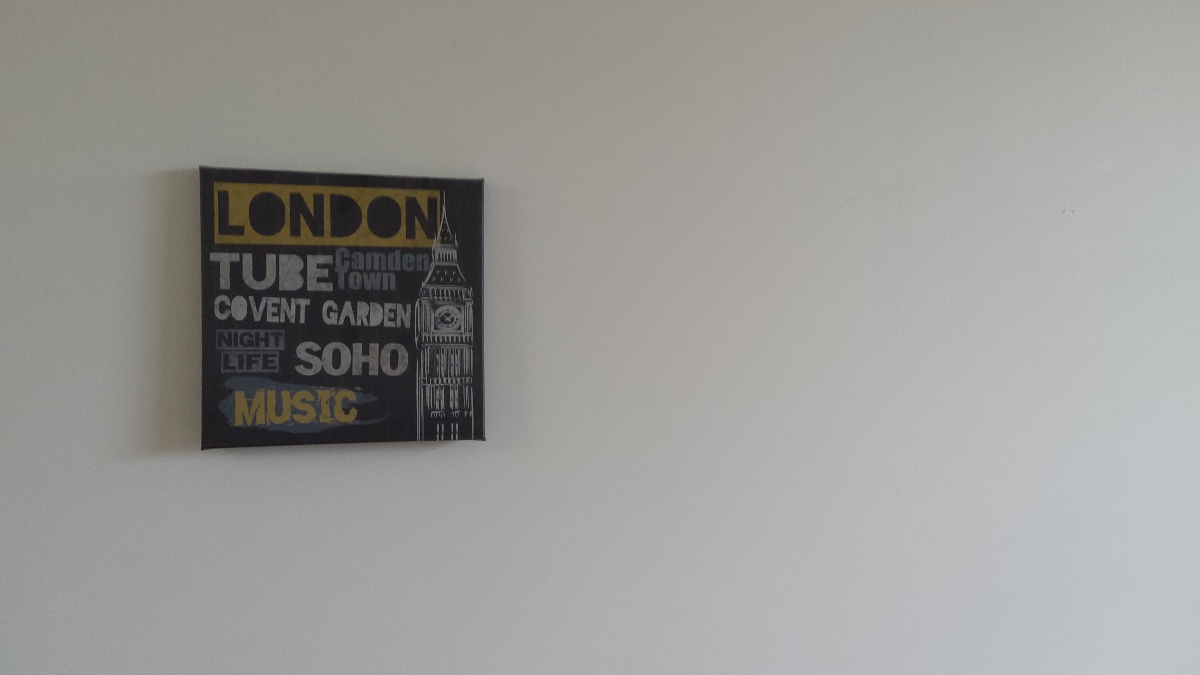poster: (192, 161, 497, 456)
